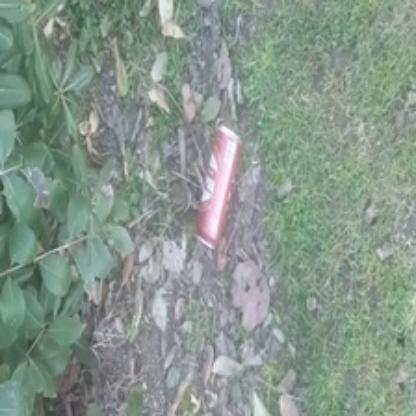Can: (193, 126, 243, 250)
